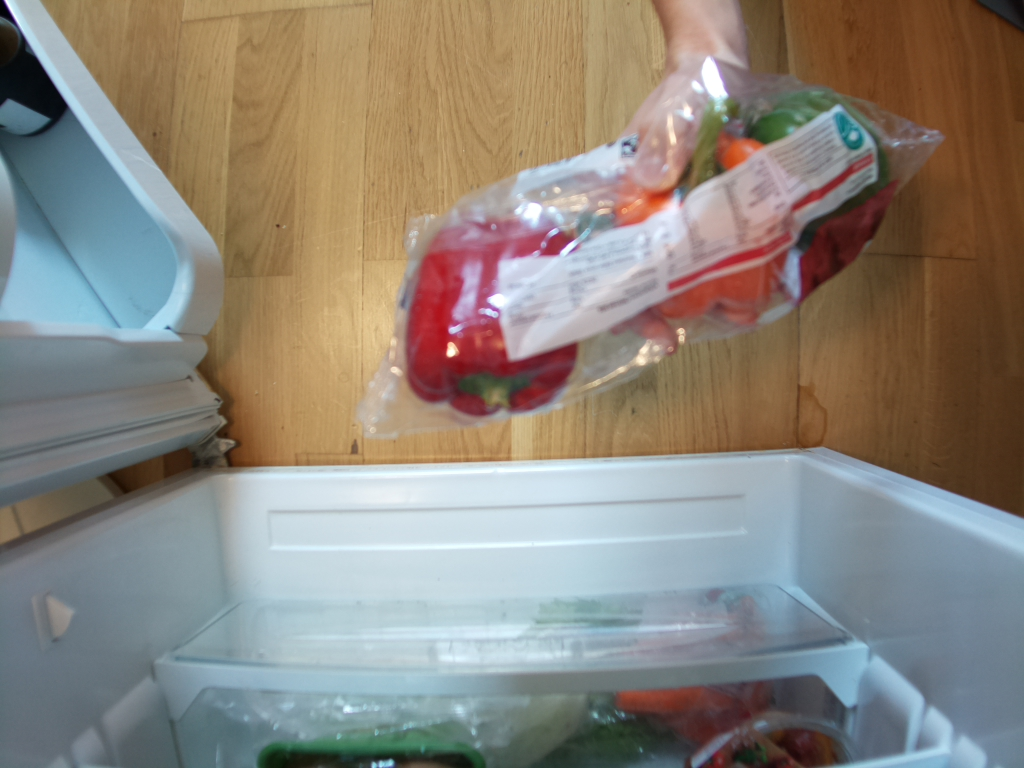pepper: (615, 98, 792, 332), (402, 217, 584, 421), (735, 83, 892, 252)
